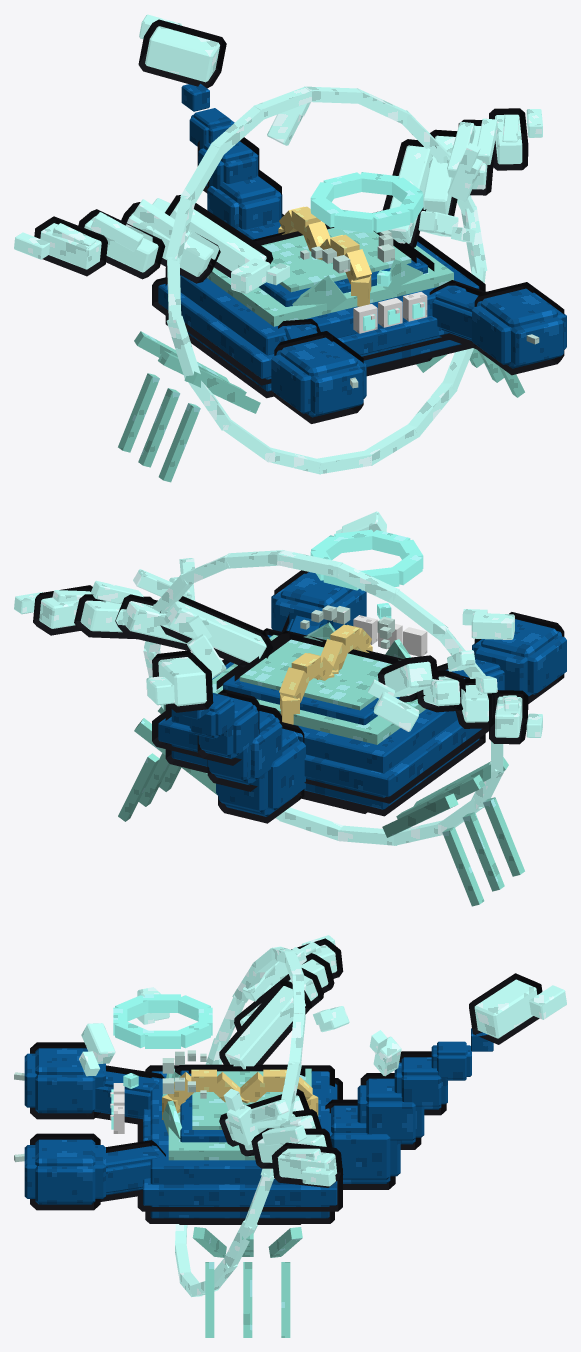
Rendered from deepsea_scorpion_10.glb.
3 renders of one model, top to bottom at view 1: azimuth 30°, elevation 25°; view 2: azimuth 150°, elevation 25°; view 3: azimuth 270°, elevation 25°, orthographic. The views are drawn at different scales.
Parts seen in each view (by area): view 1: model; view 2: model; view 3: model.
Boxes of the visible parts, bbox=[...] form: model: bbox=[14, 14, 566, 482]; model: bbox=[14, 511, 566, 906]; model: bbox=[14, 935, 566, 1337].
Size of the model in its own units: 2.24 by 1.35 by 2.18.
8 materials, 7 textured.
